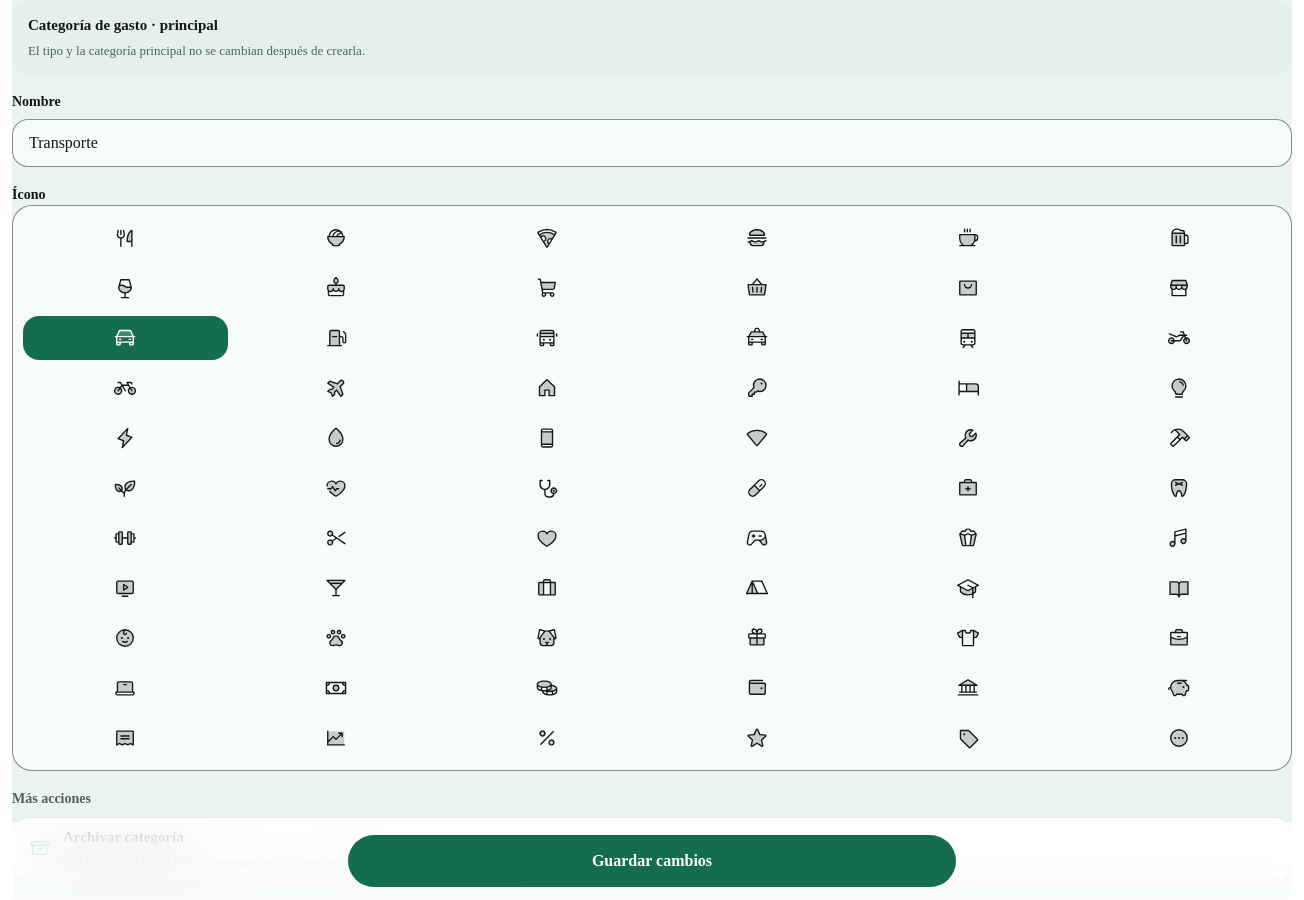
a repeated name (409 category_name_taken) › says the name is in use when the sibling is active, with no offer to unarchive
The image size is (1304, 900).
Replace the text in the field labelled "Nombre" with "comida" at (652,143), box [12, 119, 1292, 167]
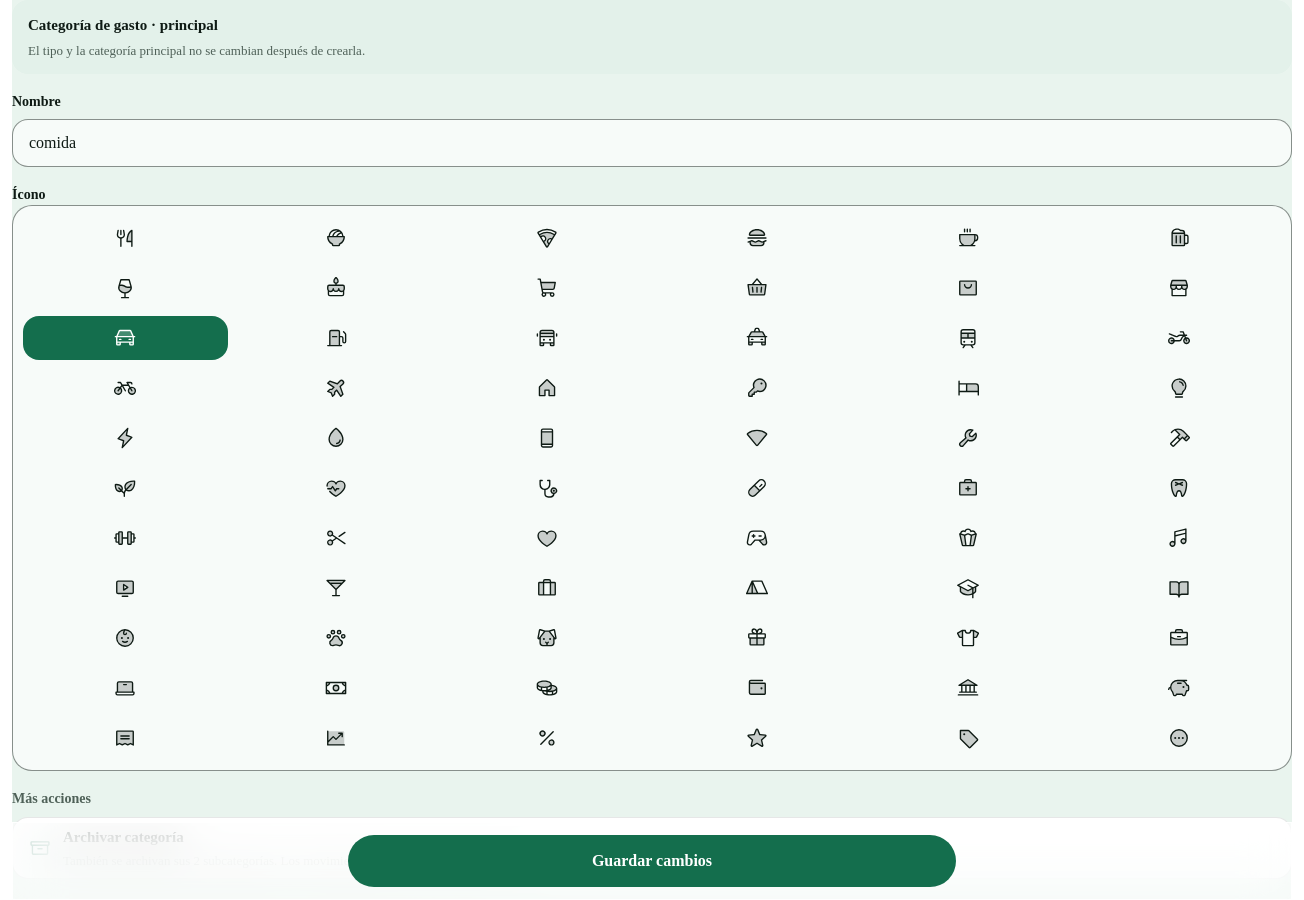
Click the button "Guardar cambios" at (652,861), box [348, 835, 956, 887]
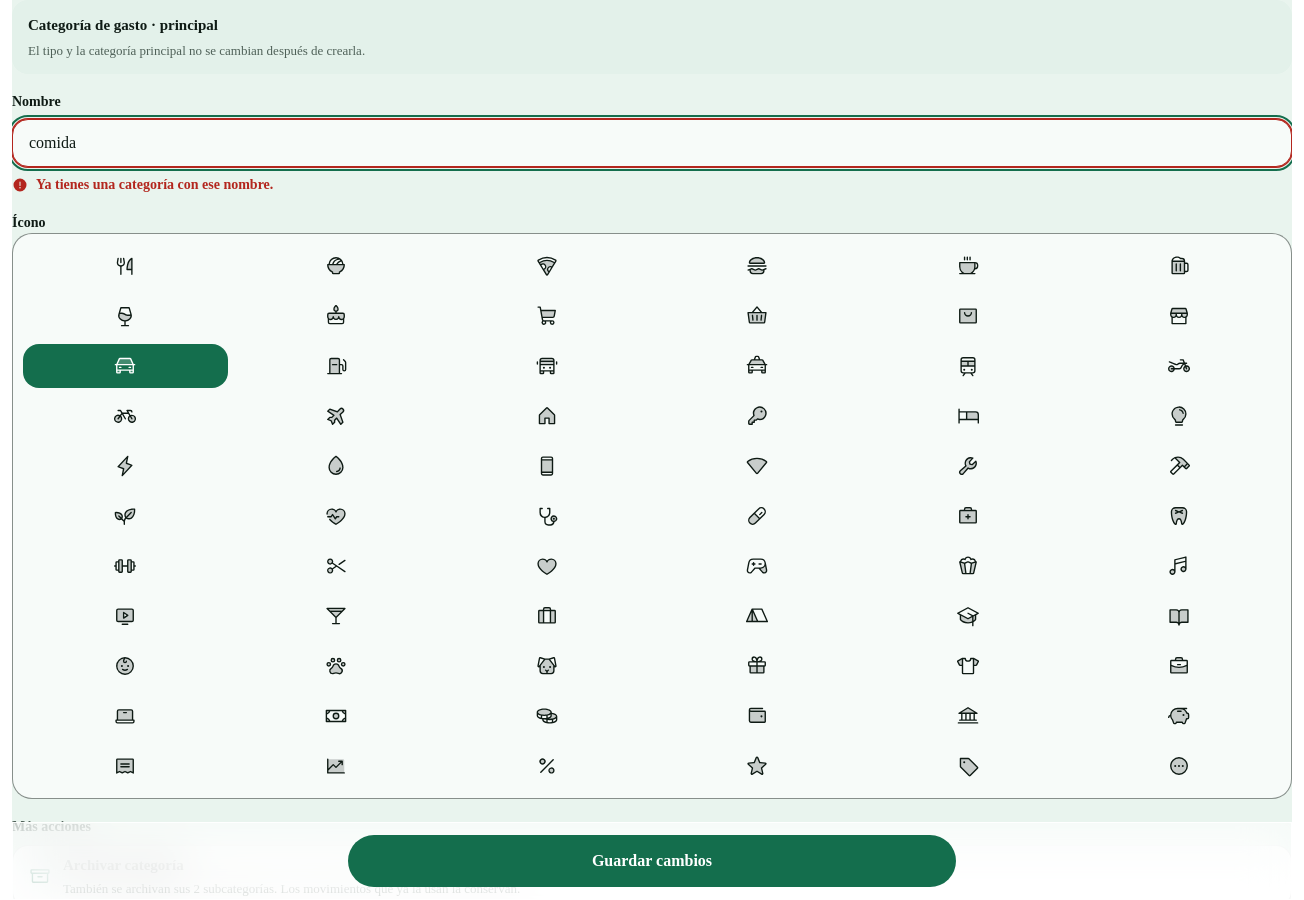
Result: the text "Ya tienes una categoría con ese nombre." is shown at [36, 175, 273, 195]
